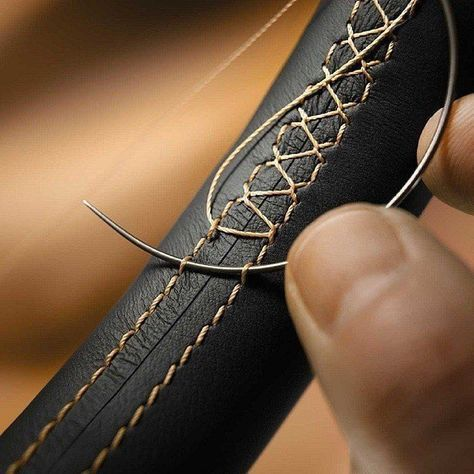cuero: (1, 1, 474, 474)
